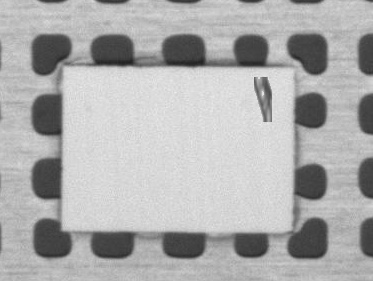DIE_INK: (337, 58, 361, 92)
